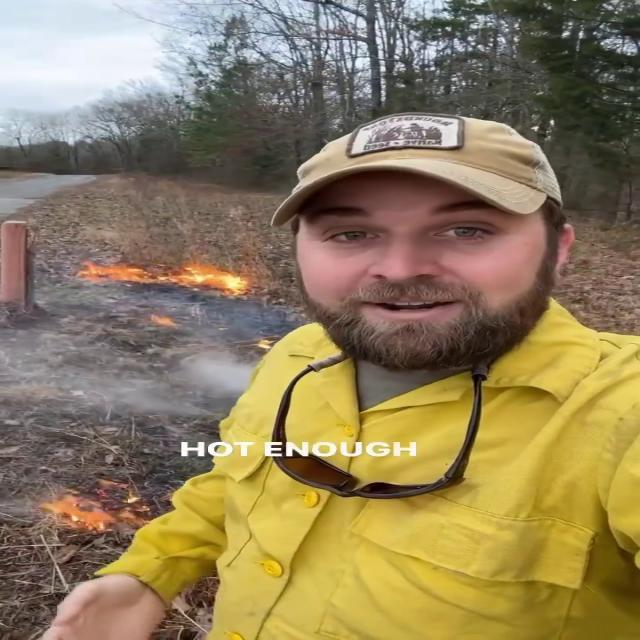Fire: (78, 256, 255, 298)
